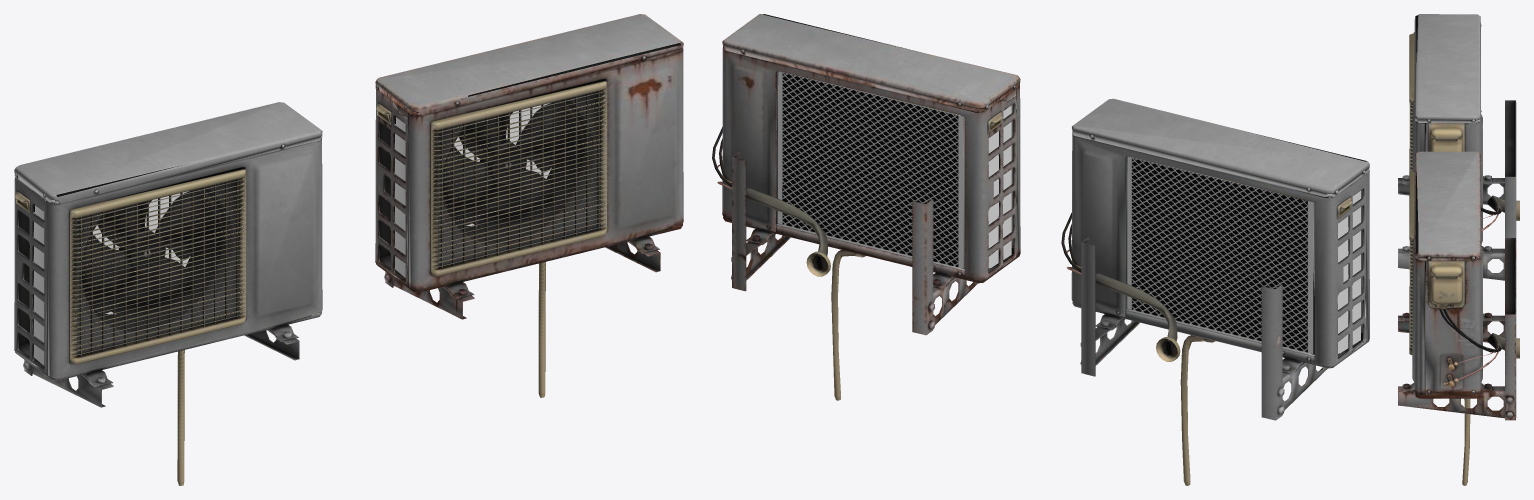
Rendered from aircon-exterior.74da064a.glb.
3 views of the same model, side by side, from view 1: azimuth 30°, elevation 25°; view 2: azimuth 150°, elevation 25°; view 3: azimuth 270°, elevation 25° (orthographic). The views are drawn at different scales.
Parts seen in each view (by area): view 1: model; view 2: model; view 3: model.
Part boxes in pixels (bbox=[...]): model: bbox=[14, 14, 683, 485]; model: bbox=[712, 14, 1369, 485]; model: bbox=[1398, 14, 1519, 485].
Size of the model in its own units: 1.8 by 0.9279 by 0.3742.
Materials: 4 (4 with a texture image).
